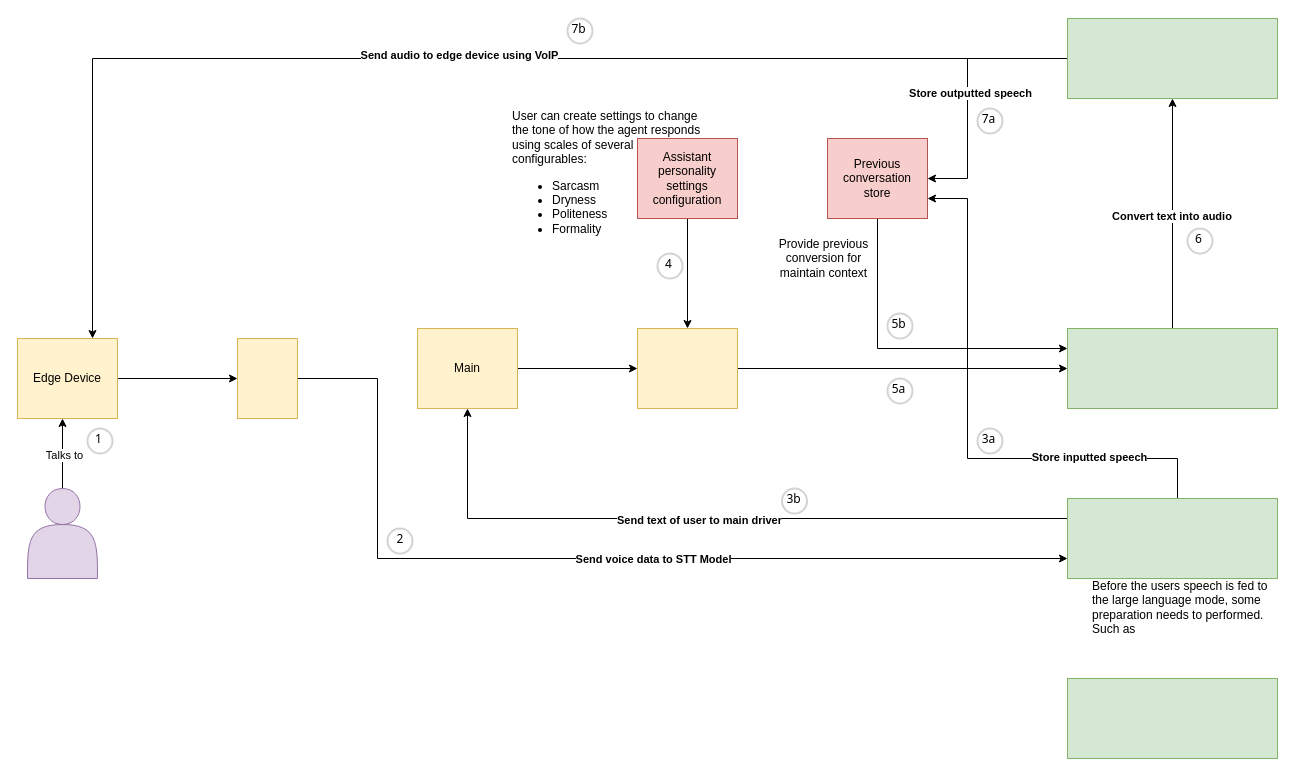
Some shapes in this 1305 by 776 pixel diagram are drawn without their labels. The box of each missing label's shape, as (x1, y1, x2, y2) in pixels:
Computer Vision model: (1066, 678, 1278, 758)
Dynamic Personality Module: (636, 328, 738, 408)
Endpoint: (236, 338, 298, 418)
LLM: (1066, 328, 1278, 408)
Speech-to-text Model: (1066, 498, 1278, 578)
Text-to-Speech Model: (1066, 18, 1278, 98)
